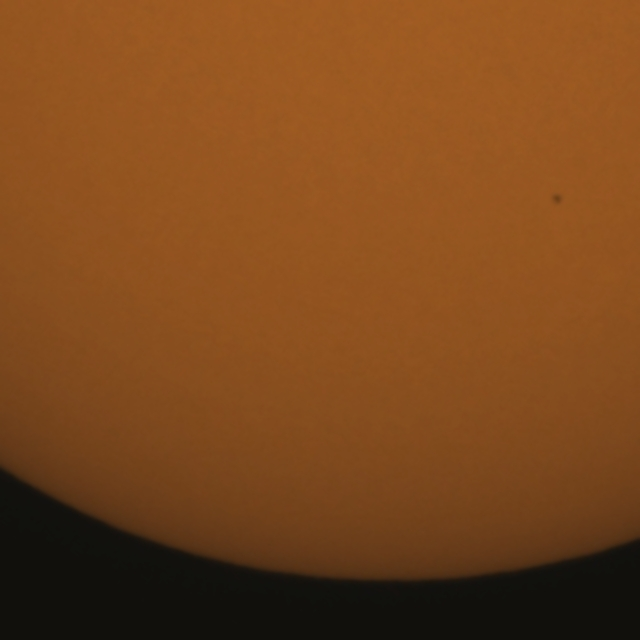sunspot: (549, 192, 565, 208)
